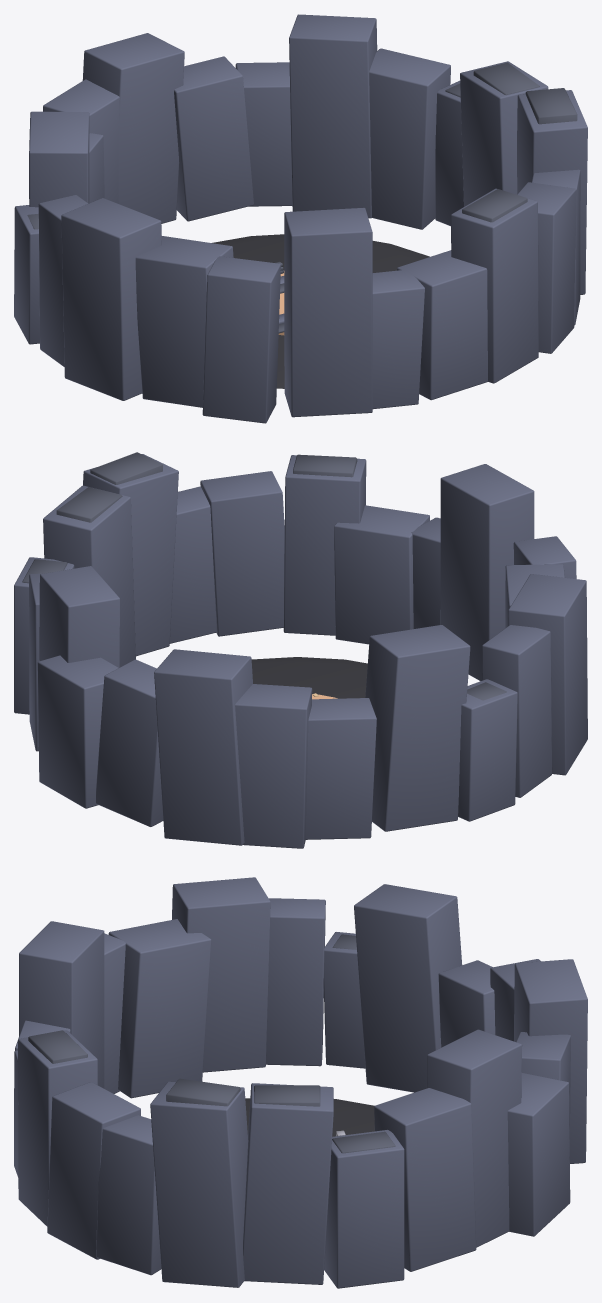
The model's file is stone_warden.glb.
3 views of the same model, one above another, from view 1: azimuth 30°, elevation 25°; view 2: azimuth 150°, elevation 25°; view 3: azimuth 270°, elevation 25° (orthographic). The views are drawn at different scales.
Parts seen in each view (by area): view 1: StoneWardenGround; view 2: StoneWardenGround; view 3: StoneWardenGround.
Part boxes in pixels (x1=…): StoneWardenGround: x1=14, y1=14, x2=587, y2=423; StoneWardenGround: x1=14, y1=452, x2=587, y2=848; StoneWardenGround: x1=14, y1=877, x2=587, y2=1288.
Bounding box in the file's own units: 46.86 × 17.06 × 45.61.
Materials: 1 (1 with a texture image).
